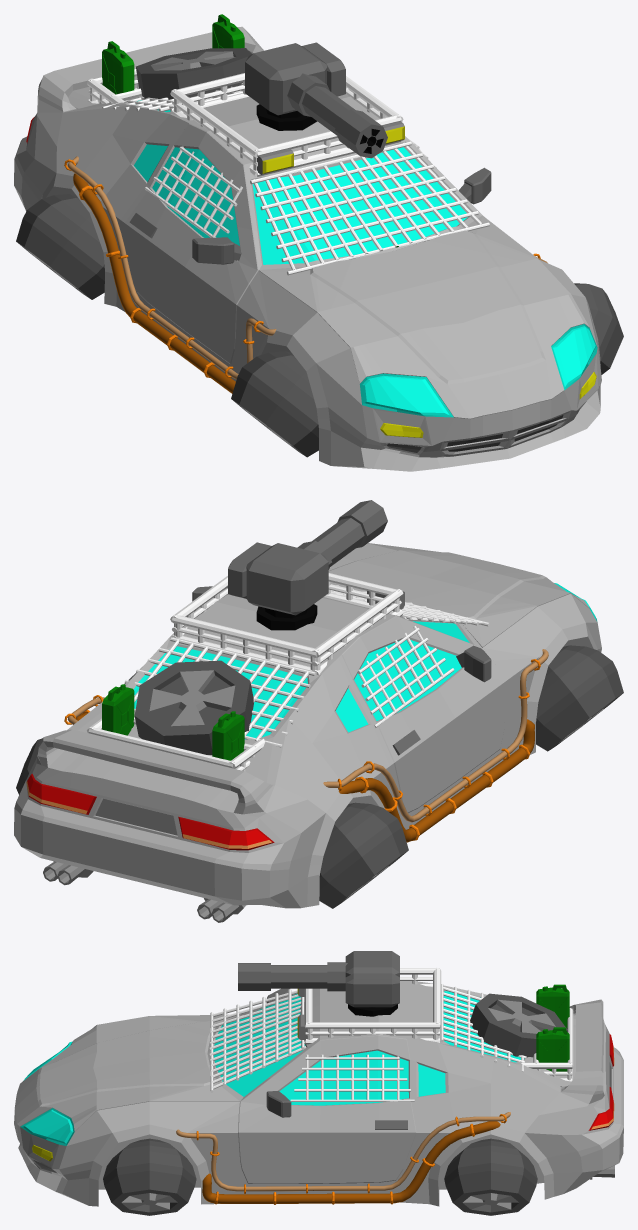
File: Katsura GTR-S_vF1.fbx
3 renders of one model, top to bottom at view 1: azimuth 30°, elevation 25°; view 2: azimuth 150°, elevation 25°; view 3: azimuth 270°, elevation 25°, orthographic. The views are drawn at different scales.
Visible parts, largest first — view 1: SK_car_Katsura GTR, SM_arma, SM_base_arma; view 2: SK_car_Katsura GTR, SM_arma, SM_base_arma; view 3: SK_car_Katsura GTR, SM_arma, SM_base_arma.
Boxes of the visible parts, x1,y1,x2,y2 form: SK_car_Katsura GTR: [14, 14, 623, 471]; SM_arma: [245, 42, 387, 158]; SM_base_arma: [256, 104, 317, 130]; SK_car_Katsura GTR: [14, 543, 623, 922]; SM_arma: [228, 500, 387, 615]; SM_base_arma: [256, 604, 317, 630]; SK_car_Katsura GTR: [14, 968, 623, 1215]; SM_arma: [238, 951, 399, 1007]; SM_base_arma: [348, 1004, 397, 1016].
Bounding box in the file's own units: 2.54 × 1.68 × 4.49.
